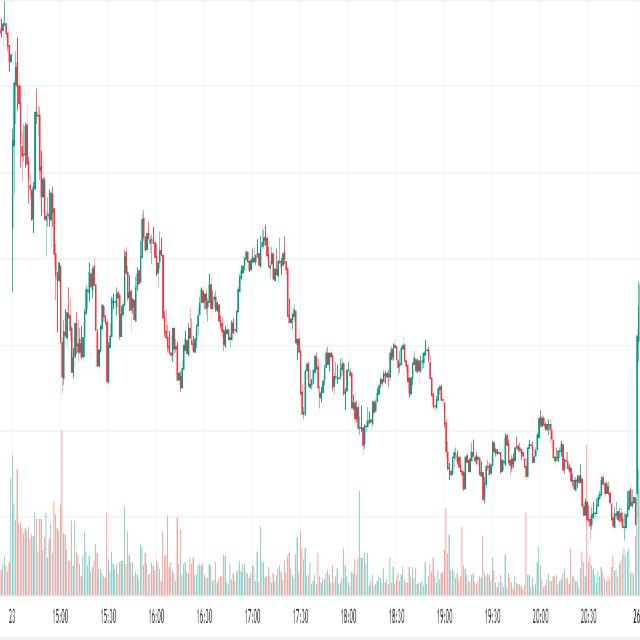Head-Shoulders: (234, 210, 292, 350)
Inverse-Head-Shoulders: (159, 242, 203, 413)
